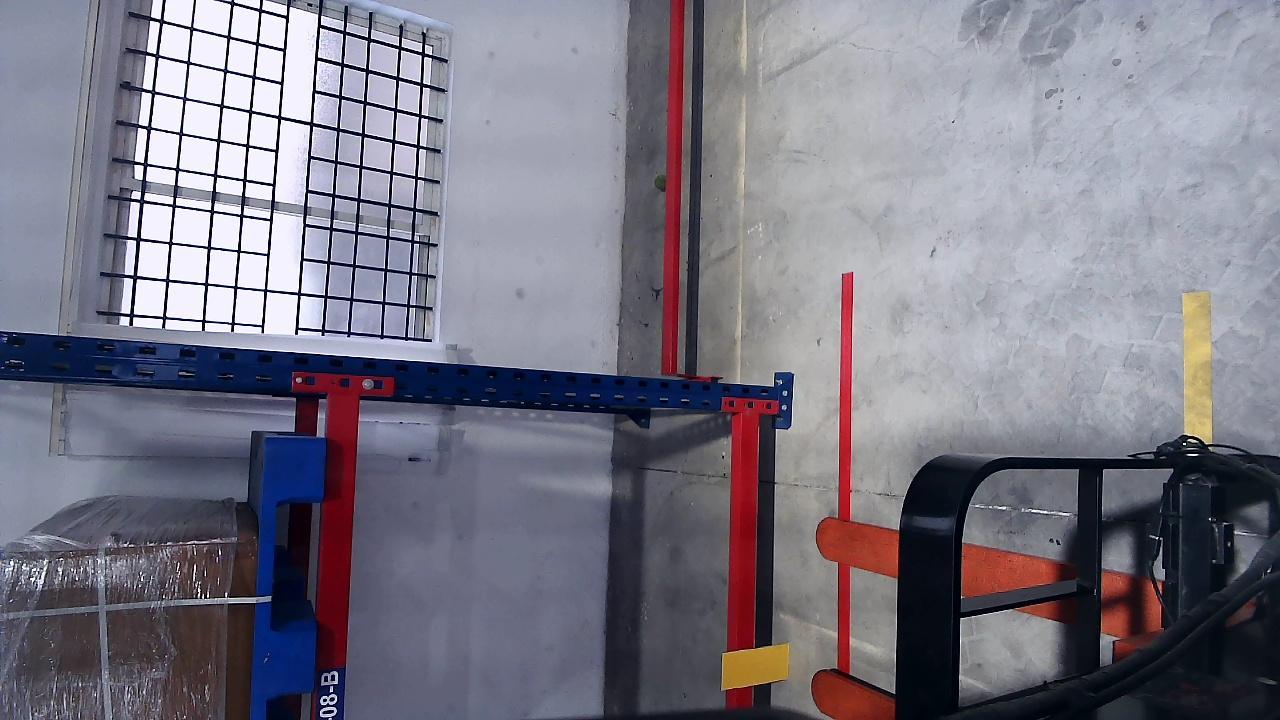h_rack: (730, 411, 755, 704), (325, 393, 345, 716)
orange_strip: (721, 643, 789, 688)
red_line: (837, 271, 855, 678)
small_pallet: (257, 437, 322, 719)
yellow_line: (1182, 291, 1215, 443)
